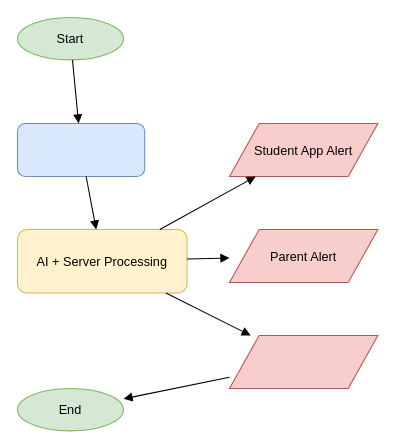
This 395x448 diagram has some shape labels left out. Each missing label, with the box of its shape:
Bus GPS Data: (16, 122, 145, 176)
Crash Alert: (228, 334, 378, 388)
